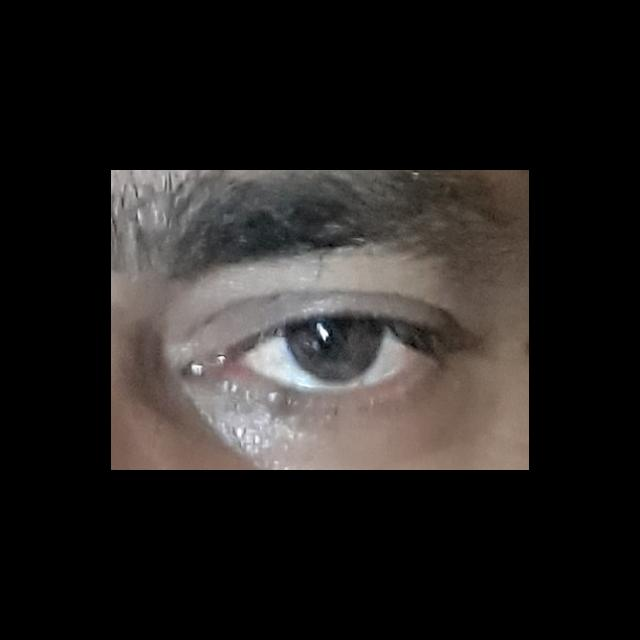eye: (237, 314, 434, 392)
iris: (285, 319, 387, 384)
